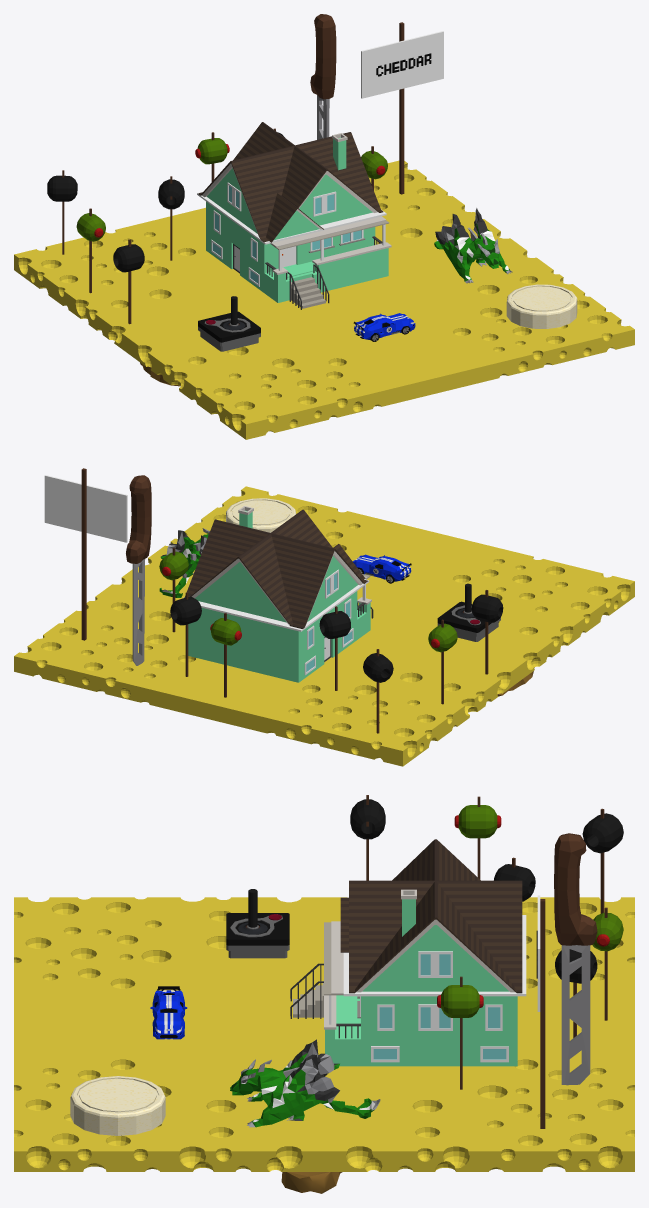
3 views of the same model, one above another, from view 1: azimuth 30°, elevation 25°; view 2: azimuth 150°, elevation 25°; view 3: azimuth 270°, elevation 25° (orthographic). The views are drawn at different scales.
Visible parts, largest first — view 1: Cube.022, Cube.352, Cube.023, Cylinder.016, ANIMAL_DRAGON, Cube.024, OBJRANDOM_JOYSTICK, VEHICLES_RACING_CAR, Sphere.017, Sphere.016, Sphere.020, Sphere.018 (+2 smaller); view 2: Cube.022, Cube.352, Cube.023, Cube.024, Cylinder.016, OBJRANDOM_JOYSTICK, ANIMAL_DRAGON, VEHICLES_RACING_CAR, Sphere.017, Sphere.021, Sphere.016, Sphere.020 (+3 smaller); view 3: Cube.022, Cube.352, Cube.024, ANIMAL_DRAGON, Cylinder.016, OBJRANDOM_JOYSTICK, Cube.023, VEHICLES_RACING_CAR, Sphere.016, Sphere.019, Sphere.018, Sphere.017 (+4 smaller).
Part boxes in pixels (x1,y1,x2,y2): Cube.022: (14, 160, 634, 439); Cube.352: (197, 122, 391, 309); Cube.023: (361, 22, 443, 194); Cylinder.016: (506, 284, 577, 328); ANIMAL_DRAGON: (434, 208, 512, 283); Cube.024: (310, 14, 336, 139); OBJRANDOM_JOYSTICK: (198, 296, 260, 351); VEHICLES_RACING_CAR: (353, 313, 415, 341); Sphere.017: (113, 239, 144, 324); Sphere.016: (47, 170, 77, 254); Sphere.020: (158, 176, 184, 260); Sphere.018: (76, 208, 105, 293); Cube.022: (14, 486, 634, 766); Cube.352: (183, 506, 373, 682); Cube.023: (44, 468, 127, 640); Cube.024: (126, 475, 151, 665); Cylinder.016: (226, 498, 295, 532); OBJRANDOM_JOYSTICK: (437, 583, 500, 641); ANIMAL_DRAGON: (159, 528, 209, 597); VEHICLES_RACING_CAR: (353, 554, 411, 583); Sphere.017: (471, 590, 503, 674); Sphere.021: (170, 592, 201, 676); Sphere.016: (363, 649, 393, 733); Sphere.020: (319, 606, 350, 690); Cube.022: (14, 897, 634, 1171); Cube.352: (290, 839, 526, 1066); Cube.024: (554, 833, 597, 1085); ANIMAL_DRAGON: (230, 1039, 380, 1127); Cylinder.016: (70, 1076, 165, 1135); OBJRANDOM_JOYSTICK: (226, 889, 289, 958); Cube.023: (536, 895, 545, 1128); VEHICLES_RACING_CAR: (150, 986, 187, 1039); Sphere.016: (582, 808, 623, 913); Sphere.019: (437, 976, 483, 1089); Sphere.018: (454, 796, 501, 879); Sphere.017: (350, 795, 385, 880).
Size of the model in its own units: 3928 by 2120 by 4000.
Materials: 42 (3 with a texture image).
